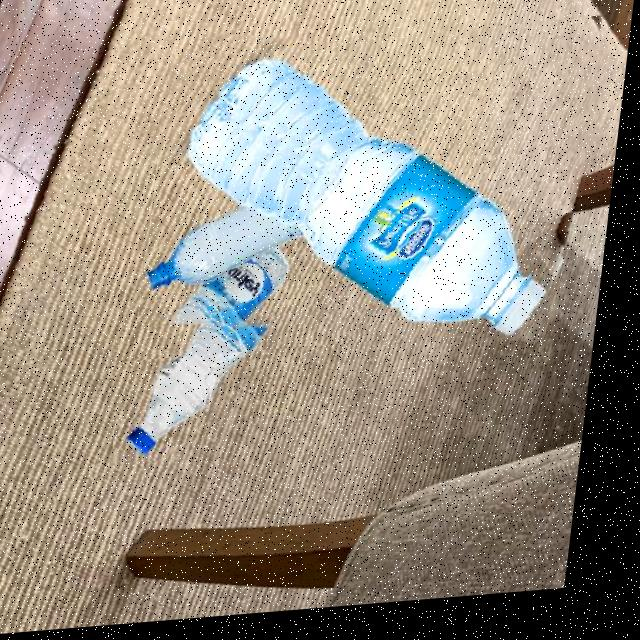plasticbottle: (142, 25, 614, 364)
plasticbottlecap: (121, 419, 181, 467)
